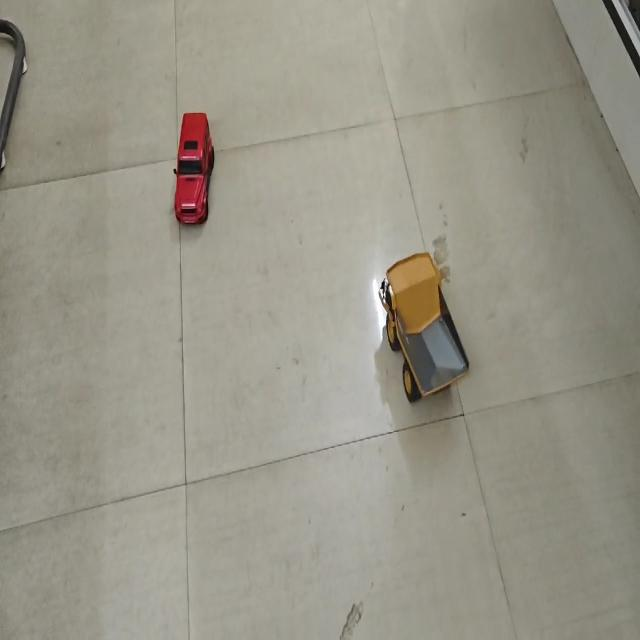dump_truck: (379, 250, 469, 402)
light_vehicle: (172, 107, 215, 230)
